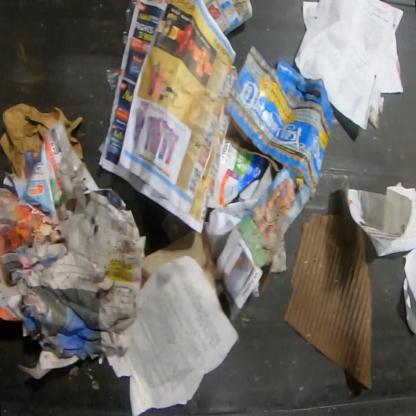cardboard: (222, 44, 333, 199), (283, 213, 371, 391), (141, 228, 217, 290), (206, 140, 269, 208)
soft_plastic: (124, 10, 134, 48), (106, 69, 120, 95)
